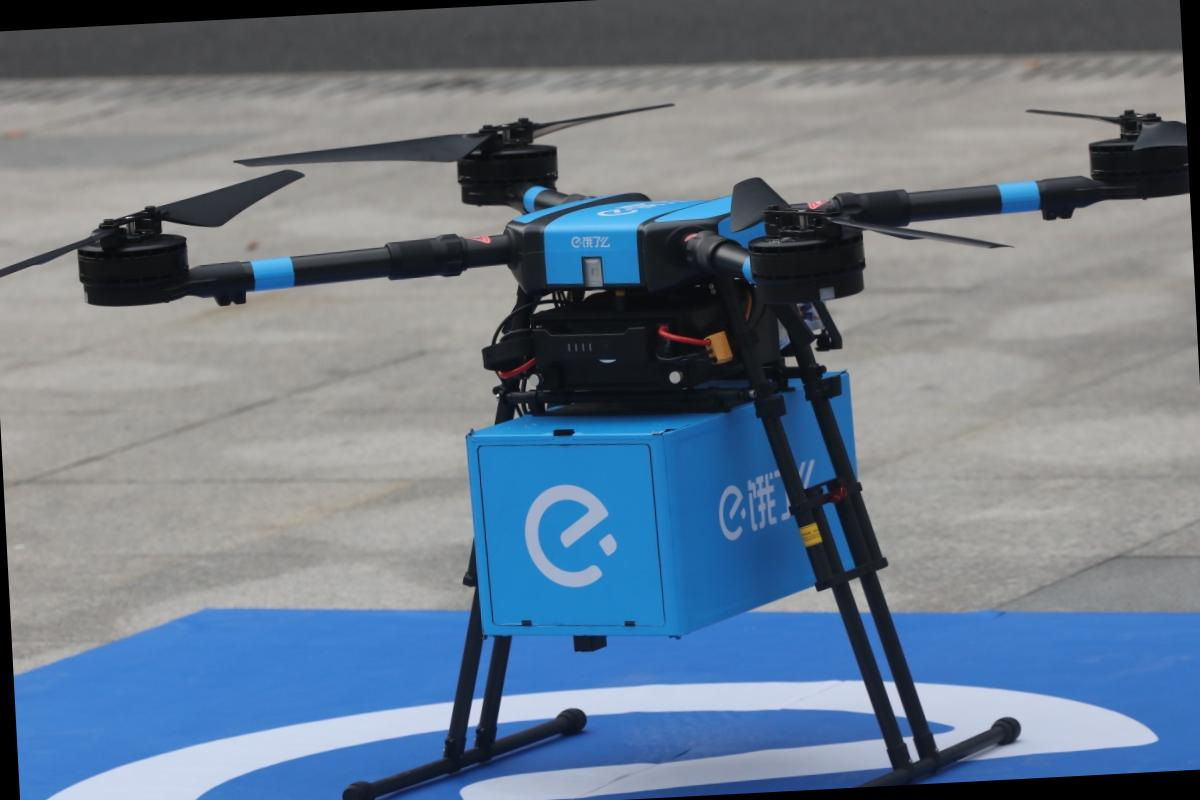drone: (55, 41, 1198, 494)
